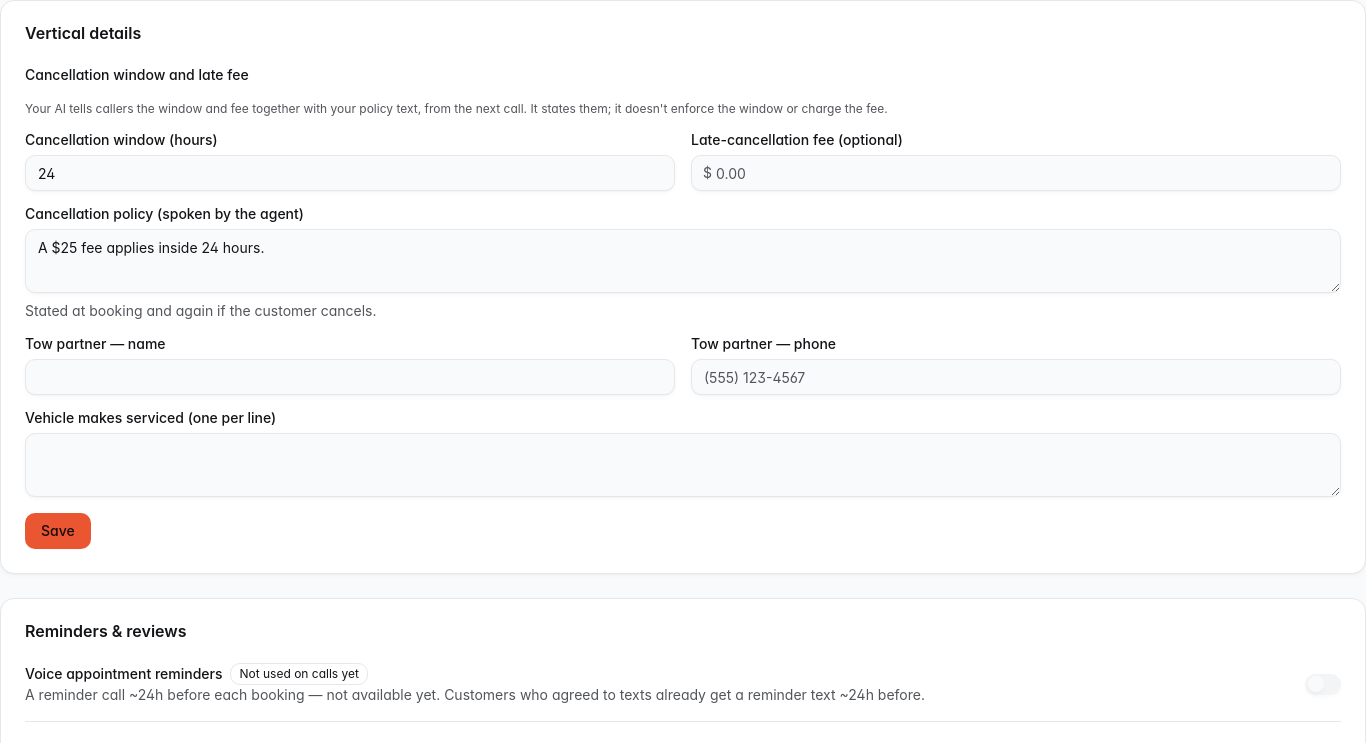
VerticalDetailsTabPage — auto (SETTINGS-1 review) › asks for the missing half of a contact in plain words, not zod's raw message
The width and height of the screenshot is (1366, 743).
Click the field labelled "Tow partner — name": (350, 377) [25, 359, 675, 395]
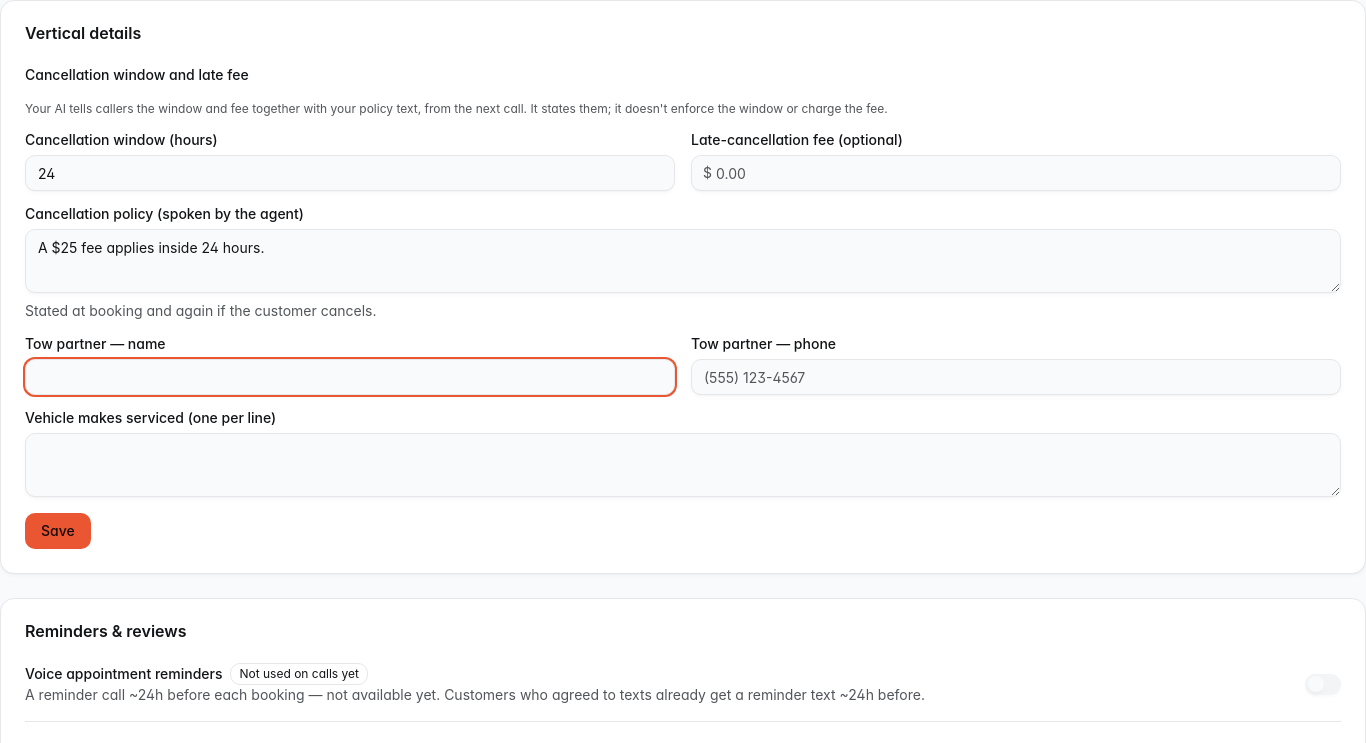
Type keys "Ace Towing"
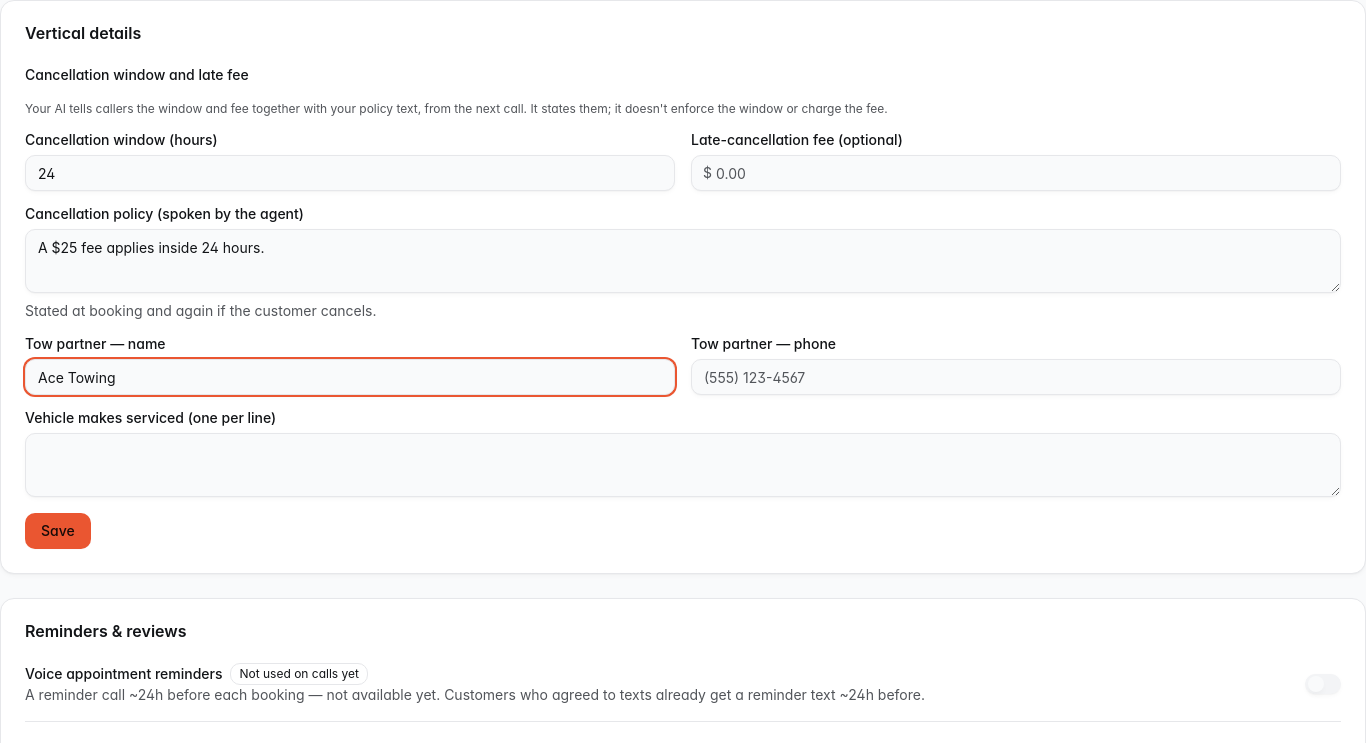
Click the button "Save": (58, 531) [25, 513, 91, 549]
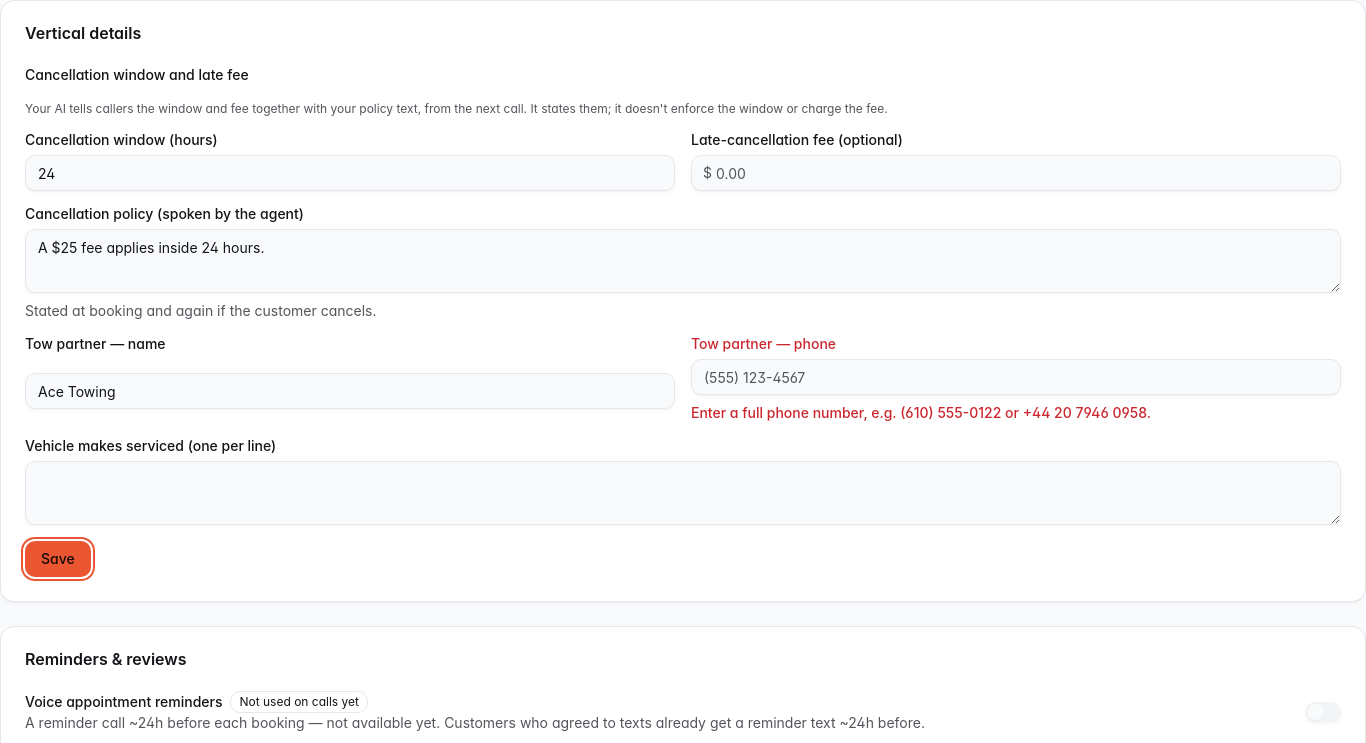
expect the text "Enter a full phone number" is shown: met, box [691, 404, 1151, 421]
